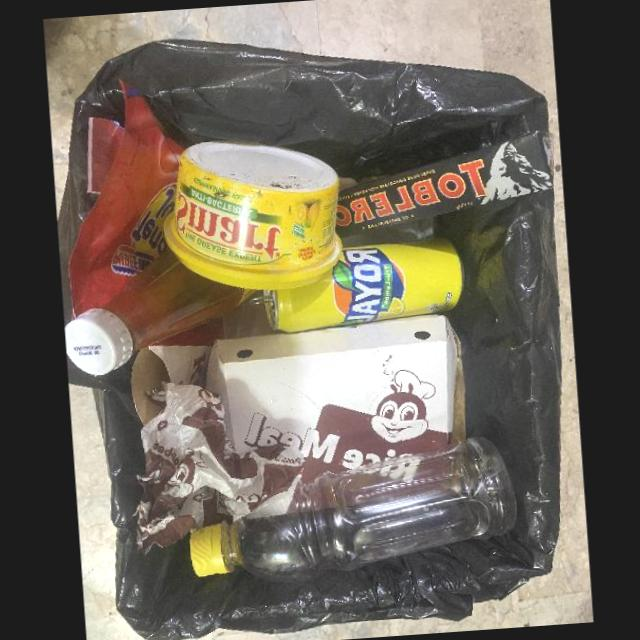carton: (203, 313, 464, 511), (335, 130, 552, 239), (129, 344, 208, 424)
chai_nhua: (161, 141, 343, 291)
chai_nhua_pet: (189, 434, 516, 580)
chai_thuy_tinh: (64, 249, 261, 377)
giay: (136, 382, 302, 554)
nhom: (250, 237, 463, 330)
